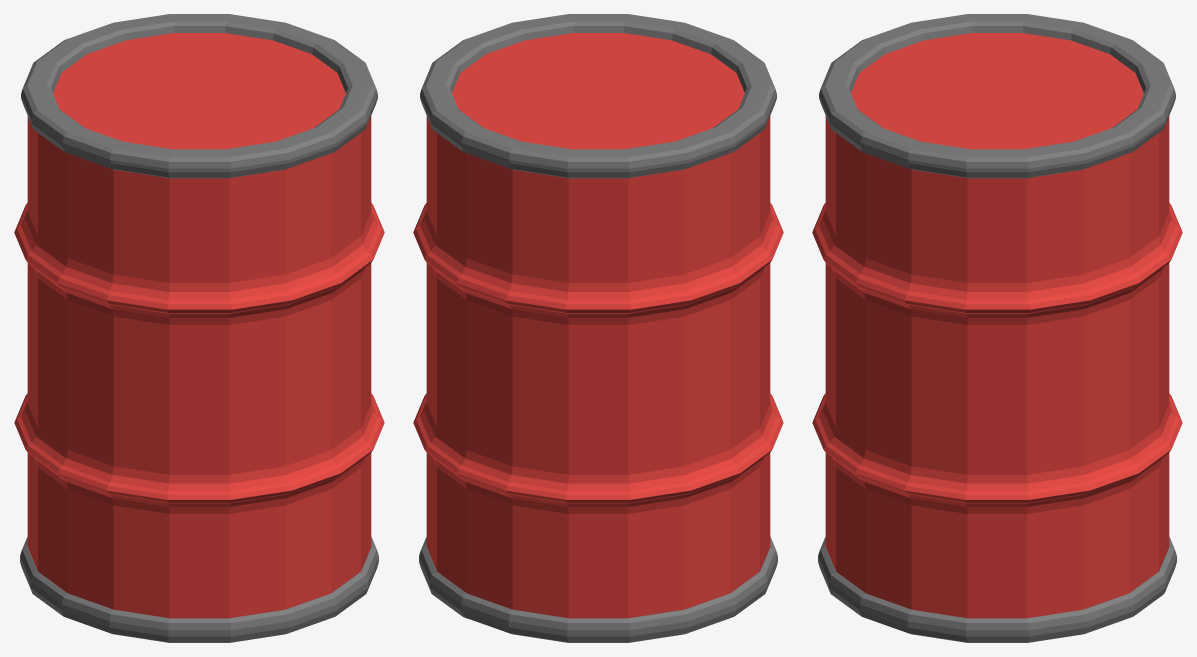
Rendered from ExplosiveBarrel.fbx.
The picture shows the model from 3 angles, left to right: view 1: azimuth 30°, elevation 25°; view 2: azimuth 150°, elevation 25°; view 3: azimuth 270°, elevation 25°; orthographic projection.
Parts seen in each view (by area): view 1: Cylinder; view 2: Cylinder; view 3: Cylinder.
Boxes of the visible parts, bbox=[...] form: Cylinder: bbox=[14, 14, 384, 642]; Cylinder: bbox=[413, 14, 783, 642]; Cylinder: bbox=[812, 14, 1182, 642].
Bounding box in the file's own units: 212 × 312 × 216.
